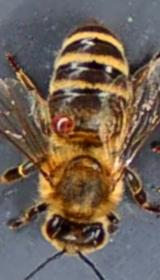varroa_mite: (42, 102, 80, 142)
